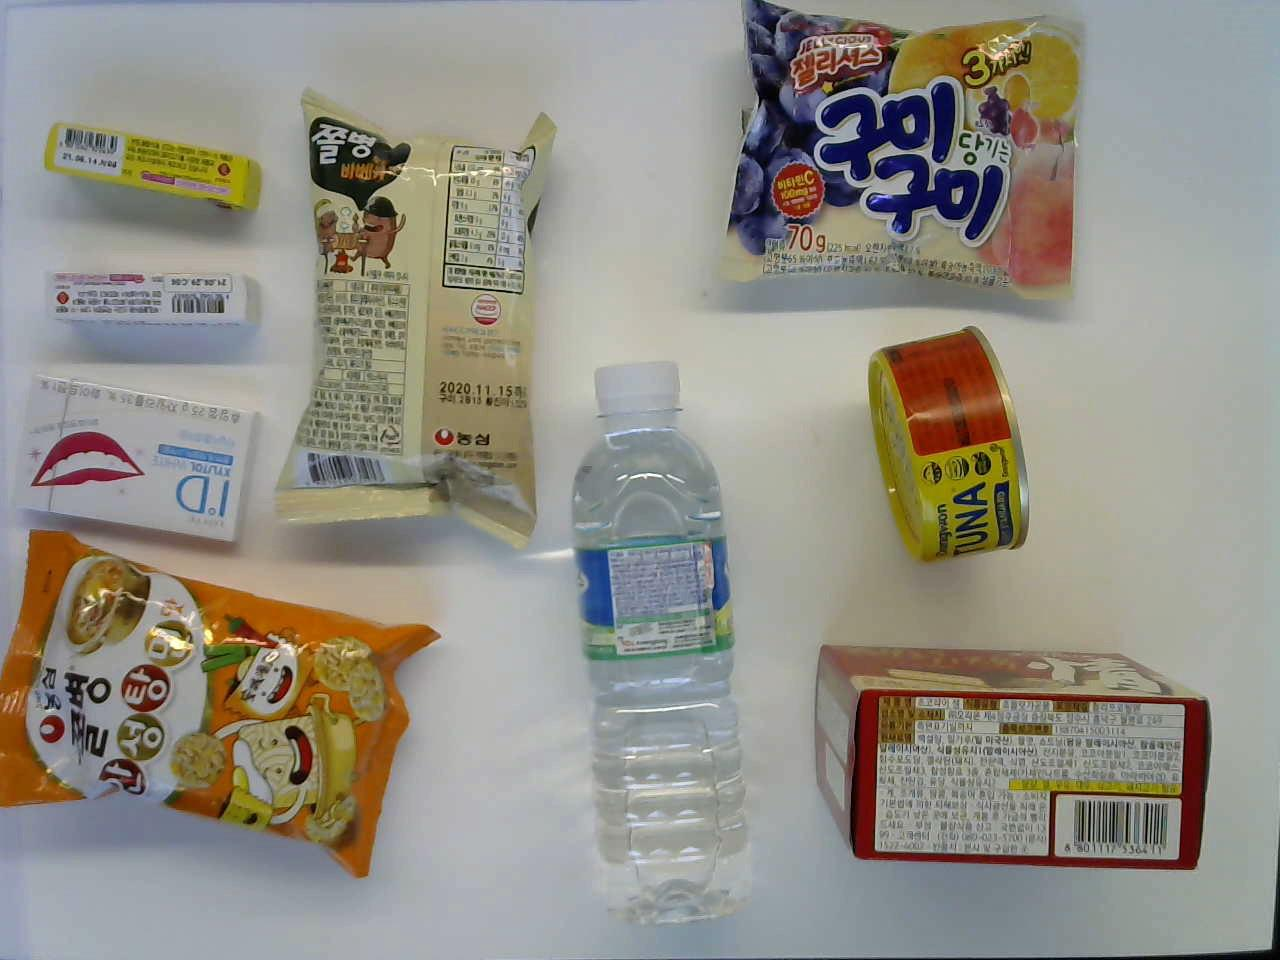ID_gum: (0, 367, 263, 549)
chocopie: (795, 641, 1215, 868)
gumi_gumi: (715, 9, 1085, 282)
jjolbyung_noodle: (0, 531, 442, 877)
jjolbyung_ori: (270, 85, 563, 546)
juicyfresh: (33, 116, 267, 220)
samdasu: (567, 356, 753, 935)
spearmint: (38, 265, 259, 333)
tuna: (864, 325, 1031, 584)
